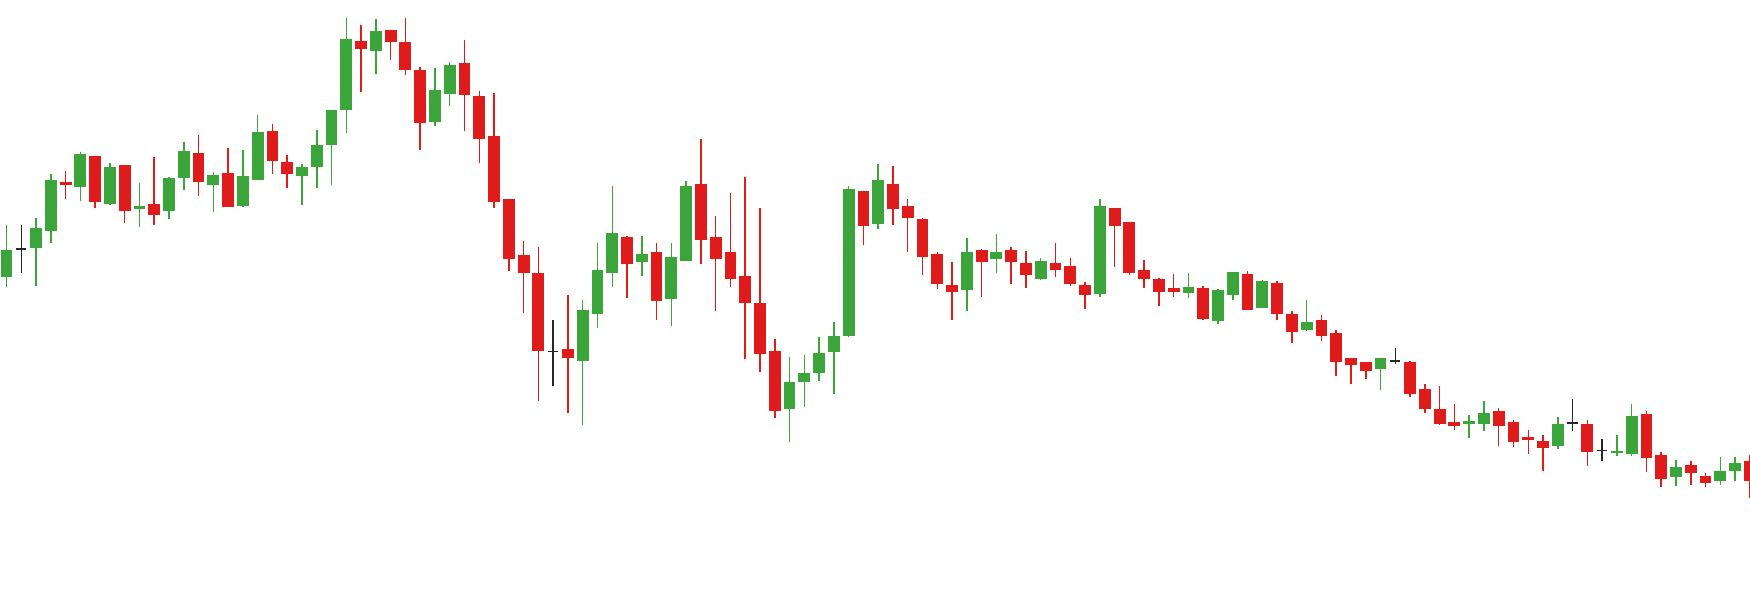buy: (560, 251, 798, 452)
sell: (990, 197, 1137, 283)
